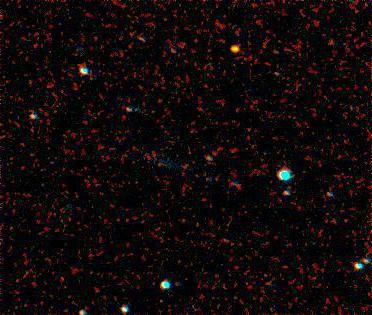star: (221, 34, 251, 64)
